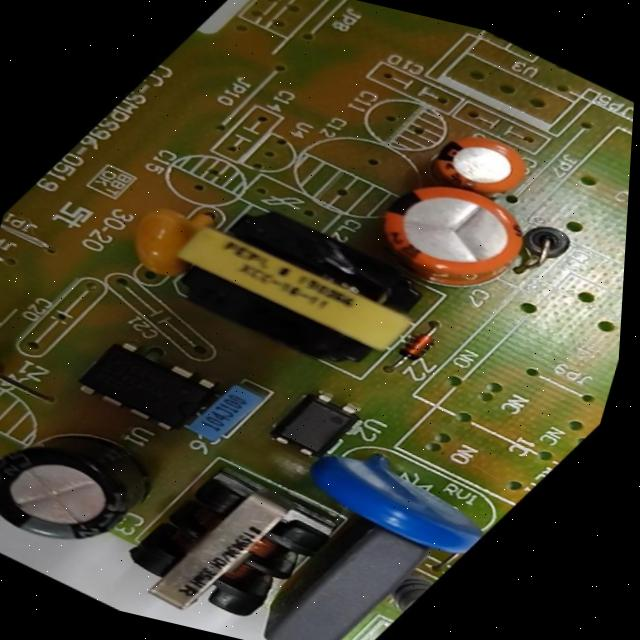Cap1: (348, 158, 559, 304)
Cap2: (413, 120, 548, 210)
Cap3: (0, 400, 180, 574)
MOSFET: (59, 330, 235, 445)
Mov: (281, 434, 513, 570)
Resistor: (371, 564, 437, 624)
Transformer: (139, 178, 467, 392), (94, 448, 358, 640)
